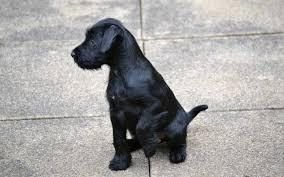dog_sitting: (69, 17, 210, 171)
